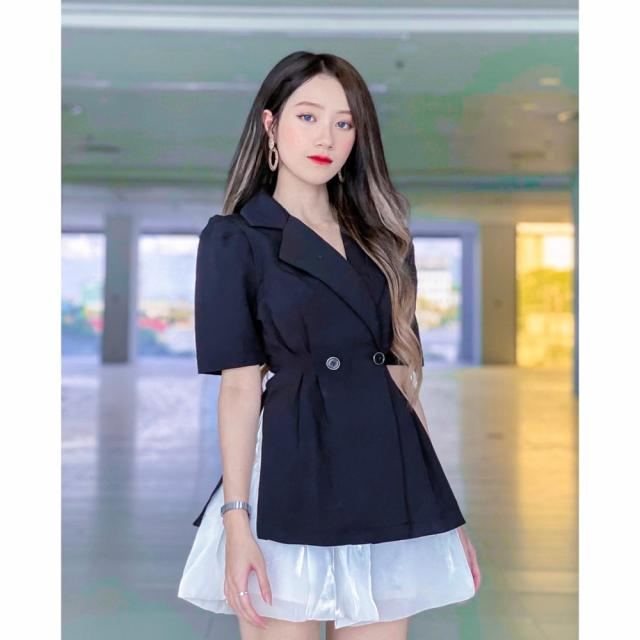clothes: (165, 194, 475, 627)
